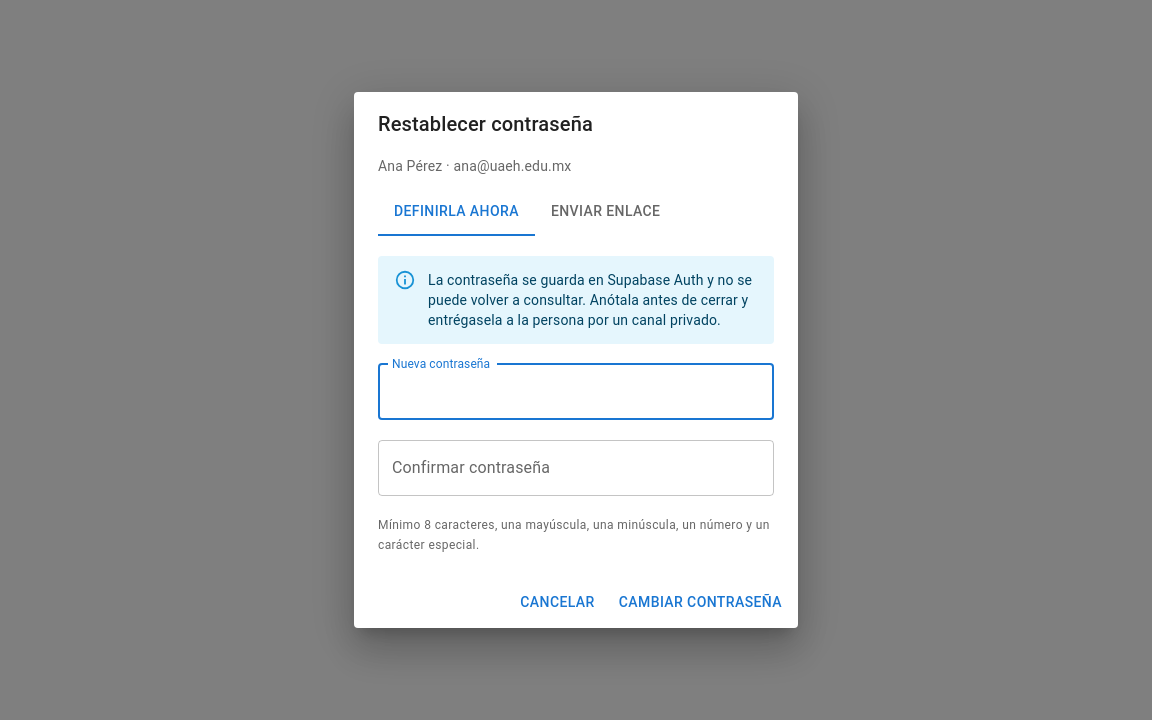
Test: DialogoContrasena › si las dos no coinciden, lo dice antes de mandar nada
Type "Sigrem2026!" into the password field labelled "Nueva contraseña" at [553, 392], box [378,364,728,420]
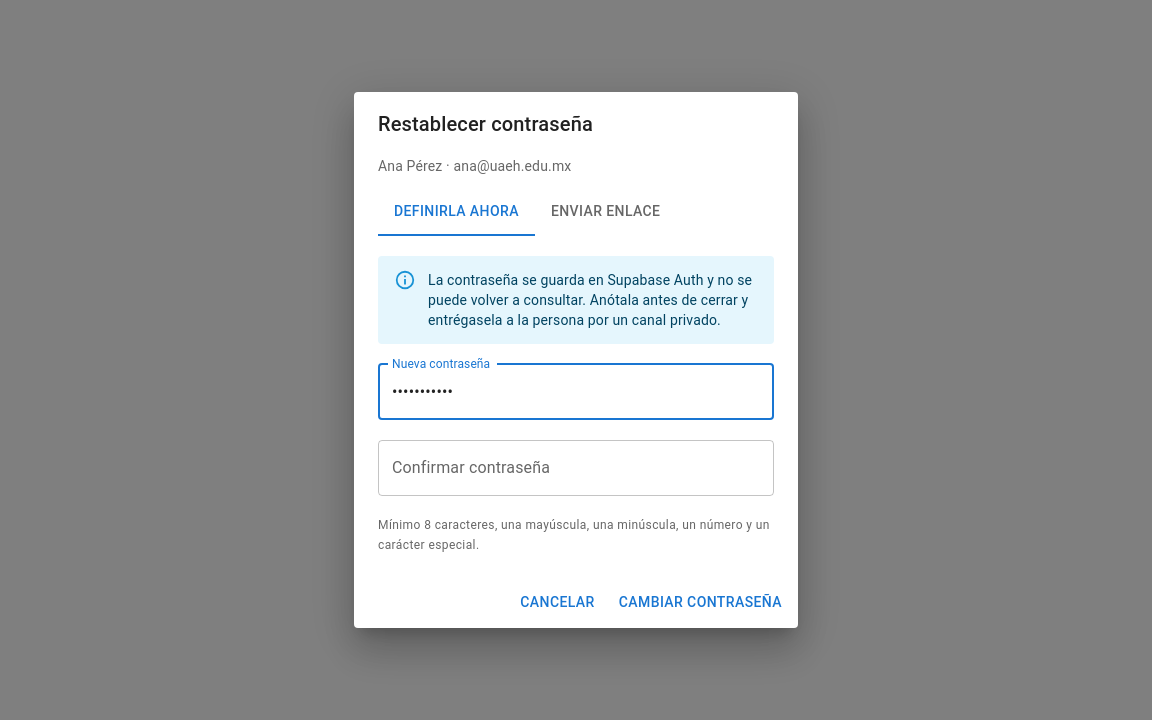
Type "Sigrem2026?" into the password field labelled "Confirmar contraseña" at [576, 468], box [378,440,774,496]
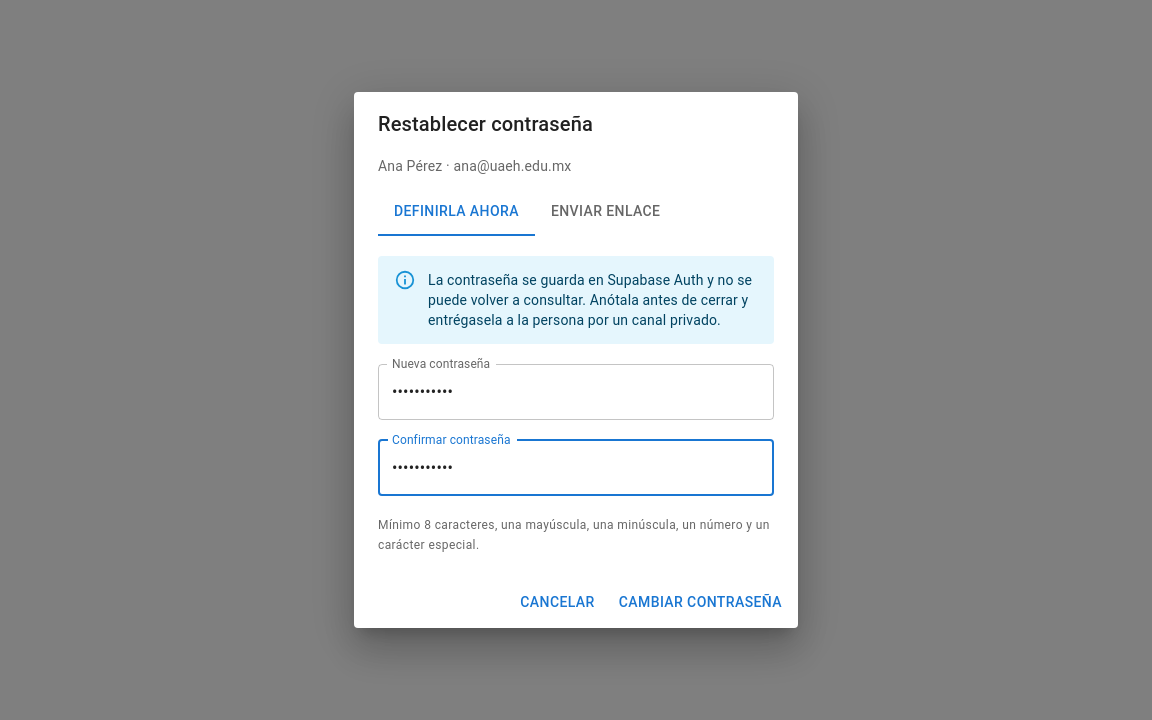
Click the button "Cambiar contraseña" at [700, 602], box [611,584,790,620]
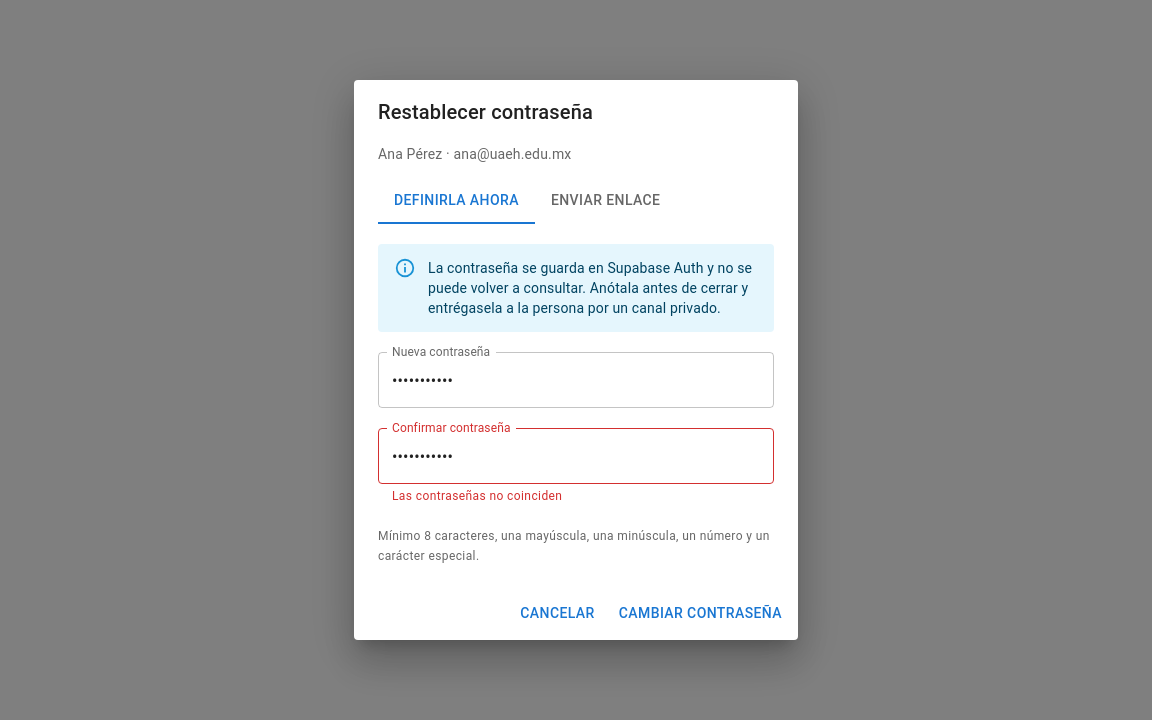
Expected: the text "Las contraseñas no coinciden" is shown, [392,489,562,503]
